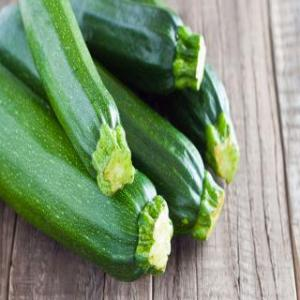zucchini: (0, 62, 184, 284), (59, 63, 227, 243), (17, 0, 135, 195), (70, 1, 210, 94)
